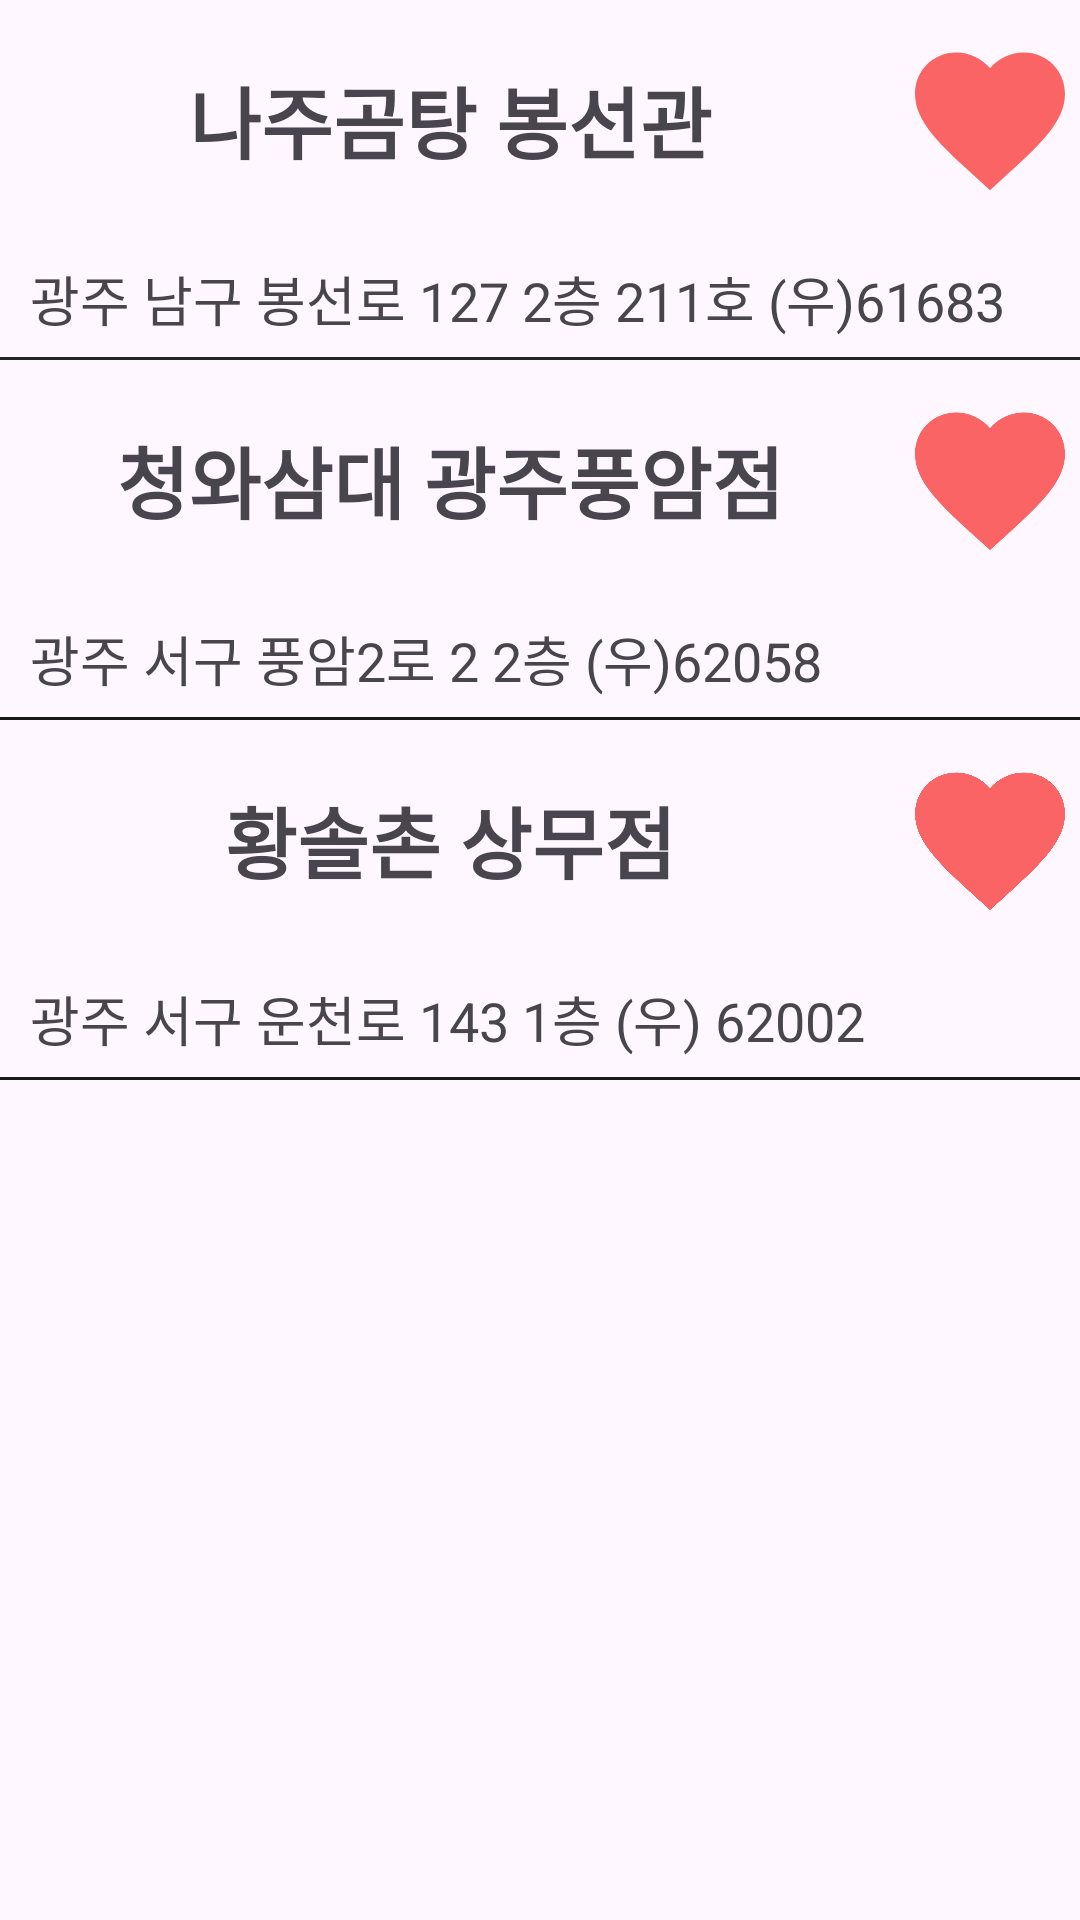

Icon click points for this 1080w x 1920h phone screenshot, format (x=x, y=y):
favorite animation: (x=990, y=121), (x=990, y=481), (x=990, y=841)
